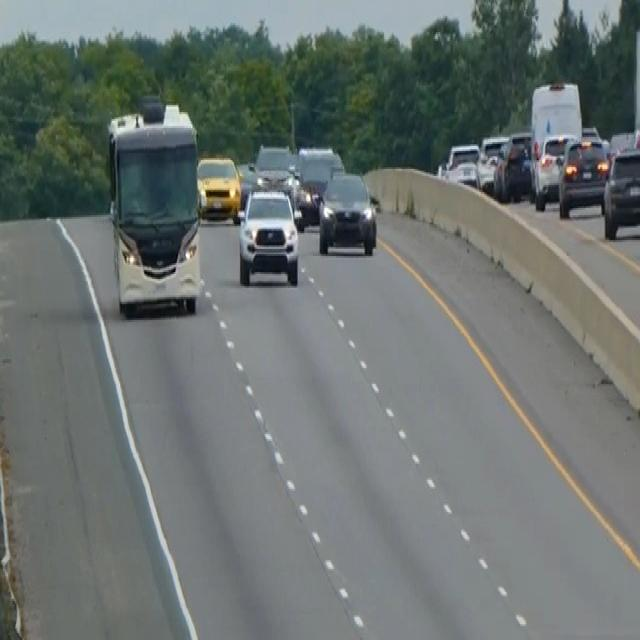bus: (104, 94, 203, 318)
car: (317, 169, 377, 256), (557, 133, 610, 219), (294, 144, 344, 226), (602, 144, 639, 240), (532, 130, 576, 208), (196, 153, 241, 222), (493, 131, 532, 201), (475, 132, 509, 192), (442, 140, 480, 188), (254, 140, 292, 182), (235, 158, 258, 208)
jeep: (236, 183, 300, 288)
